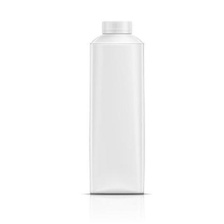carton: (85, 16, 144, 197)
